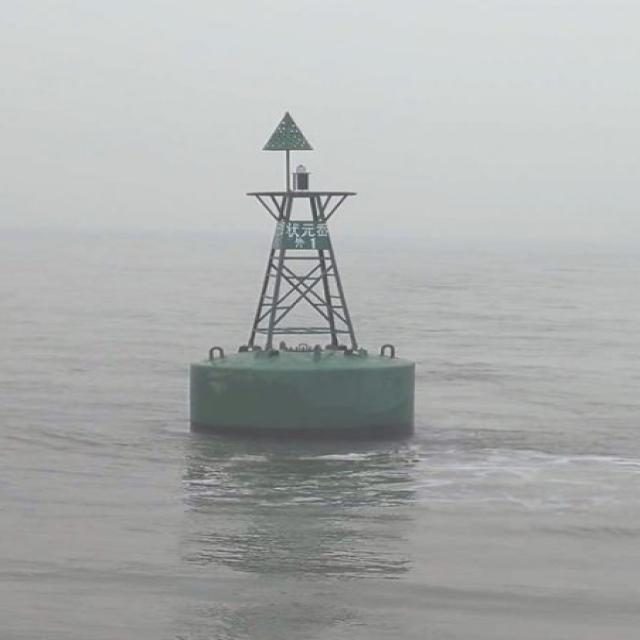buoy: (175, 110, 432, 428)
